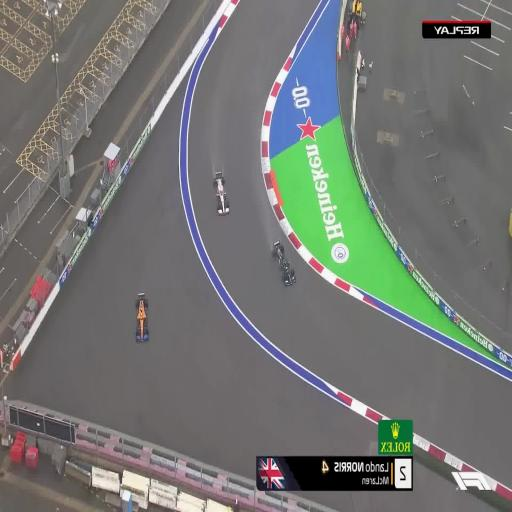f1_car: (272, 240, 297, 285), (214, 172, 230, 214), (136, 293, 149, 340)
